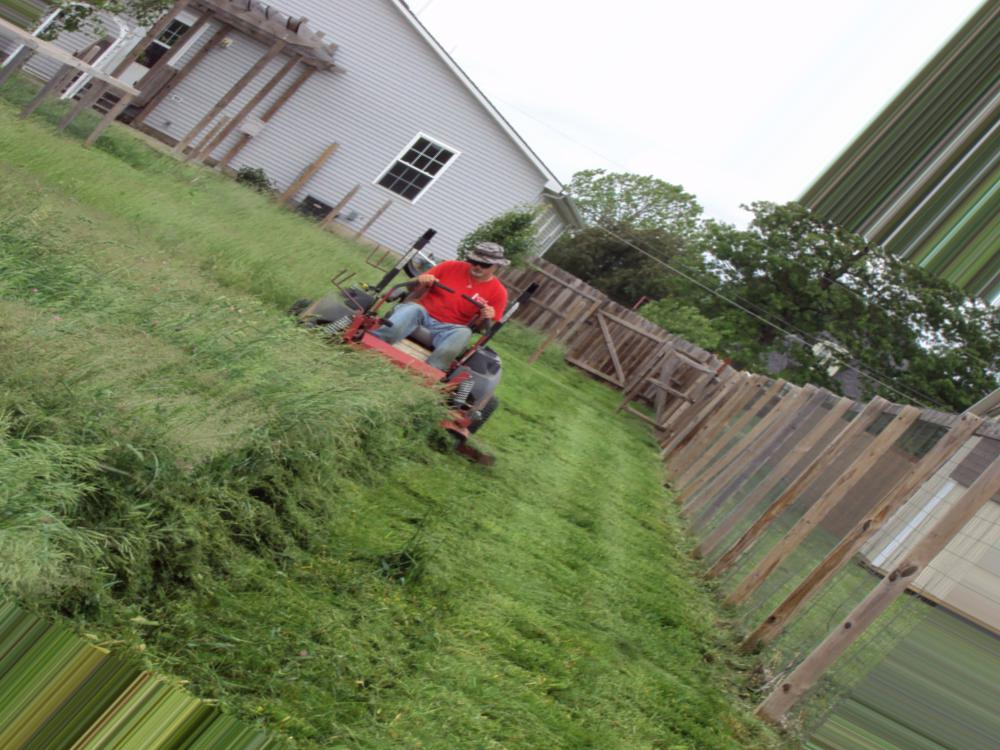patch: (153, 409, 220, 456)
